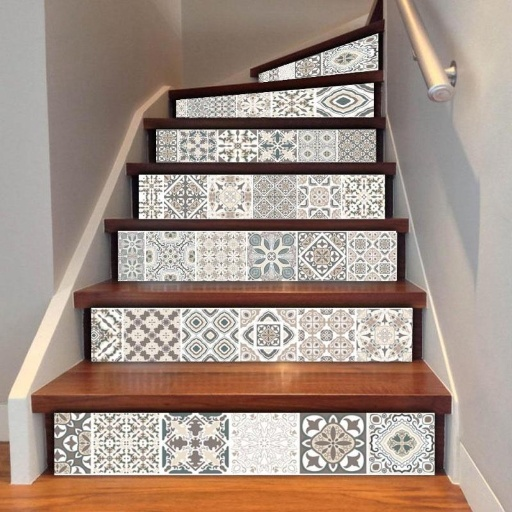Stairs: (32, 22, 451, 480)
